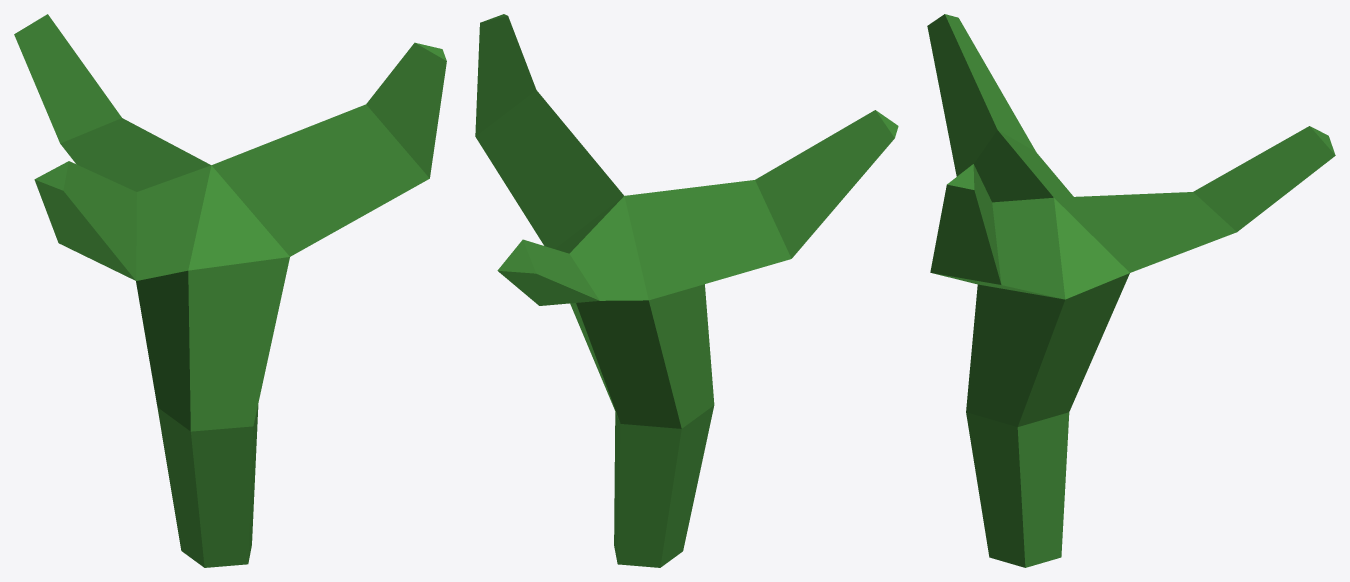
File: Coral B.fbx
3 views of the same model, side by side, from view 1: azimuth 30°, elevation 25°; view 2: azimuth 150°, elevation 25°; view 3: azimuth 270°, elevation 25° (orthographic). The views are drawn at different scales.
Visible parts, largest first — view 1: Cylinder001; view 2: Cylinder001; view 3: Cylinder001.
Boxes of the visible parts, x1,y1,x2,y2 form: Cylinder001: (14,14,446,567); Cylinder001: (475,14,898,567); Cylinder001: (927,14,1335,567).
Bounding box in the file's own units: 16.92 × 19 × 15.05.
1 material, 1 textured.
